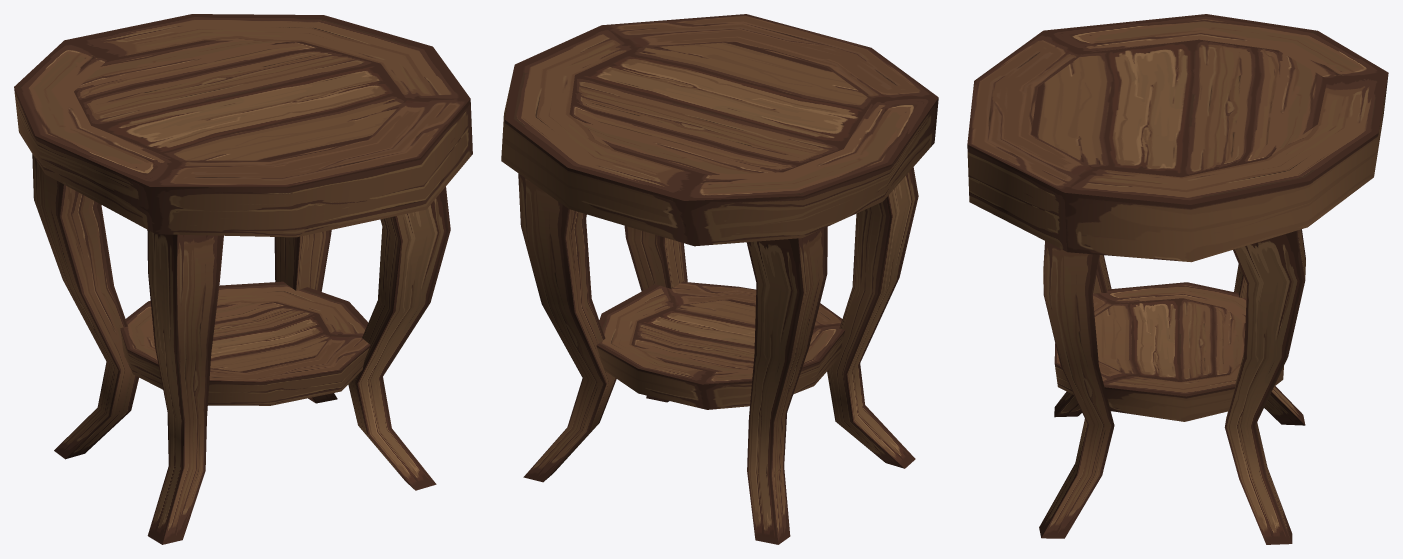
File: SM_PROP_table_interior_06.fbx
3 views of the same model, side by side, from view 1: azimuth 30°, elevation 25°; view 2: azimuth 150°, elevation 25°; view 3: azimuth 270°, elevation 25° (orthographic).
Parts seen in each view (by area): view 1: SM_PROP_table_interior_06; view 2: SM_PROP_table_interior_06; view 3: SM_PROP_table_interior_06.
Boxes of the visible parts, box(x1,y1,x2,y2) form: SM_PROP_table_interior_06: box(14, 14, 472, 544); SM_PROP_table_interior_06: box(501, 14, 938, 544); SM_PROP_table_interior_06: box(967, 14, 1388, 544).
Bounding box in the file's own units: 89.66 × 78.43 × 81.37.
